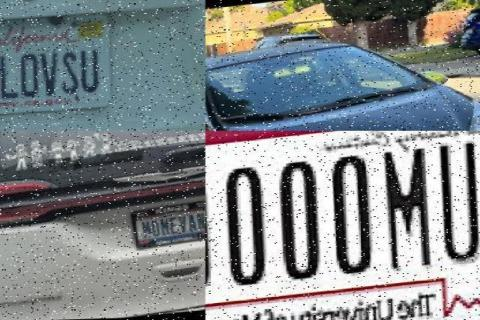LicensePlate: (205, 133, 480, 303), (0, 8, 126, 124), (134, 203, 204, 249)
